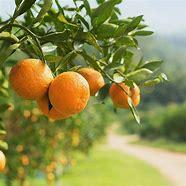orange: (2, 51, 50, 104), (38, 71, 86, 119), (106, 75, 145, 108)
